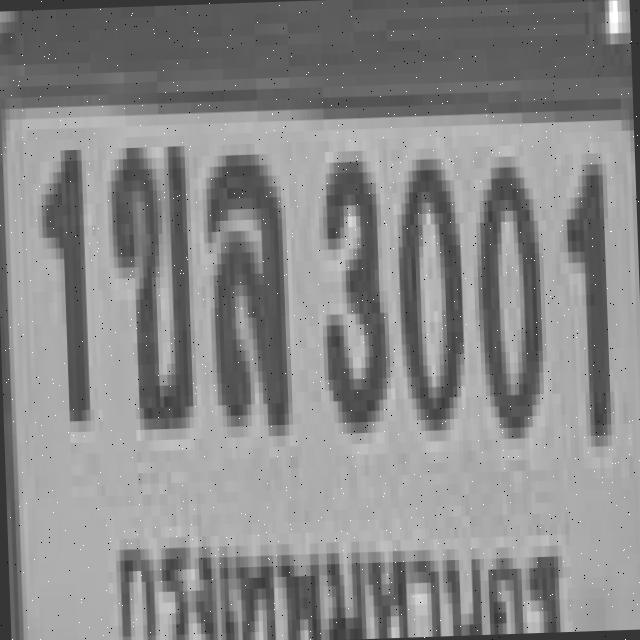0: (391, 147, 462, 420), (470, 156, 540, 428)
1: (35, 139, 86, 411), (560, 153, 608, 436)
11KhorKhai: (105, 135, 189, 419)
3: (316, 150, 384, 423)
45LorLing: (200, 142, 284, 416)
Bangkok: (100, 505, 572, 640)
